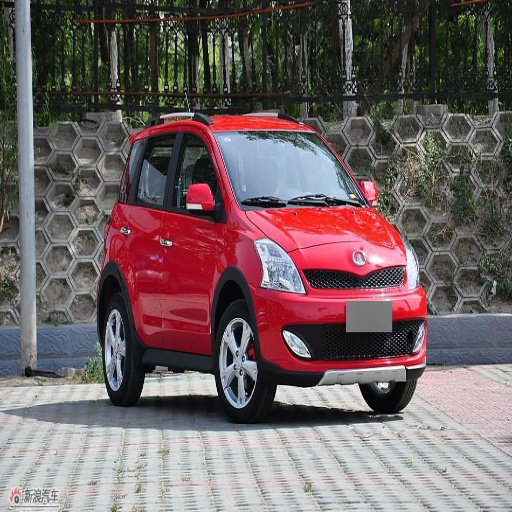front_bumper: (253, 264, 424, 383)
front_right_door: (164, 124, 223, 348)
front_right_light: (256, 241, 305, 293)
hood: (245, 206, 407, 276)
